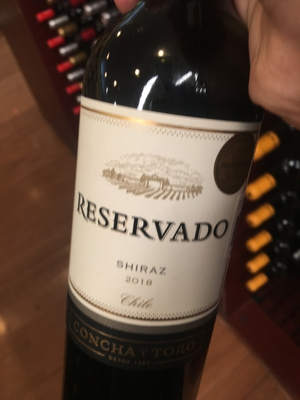reservado shiraz: (60, 6, 257, 400)
